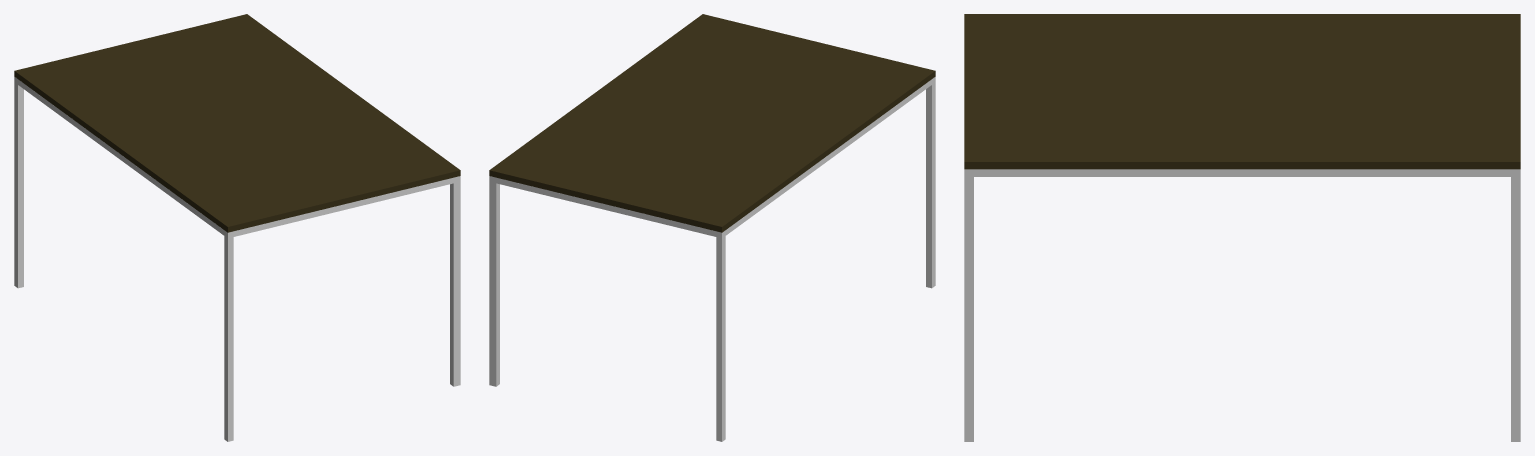
The model's file is table_1.dae.
The picture shows the model from 3 angles, left to right: view 1: azimuth 30°, elevation 25°; view 2: azimuth 150°, elevation 25°; view 3: azimuth 270°, elevation 25°; orthographic projection. The views are drawn at different scales.
Visible parts, largest first — view 1: IKEA_table_TORSBY; view 2: IKEA_table_TORSBY; view 3: IKEA_table_TORSBY.
Boxes of the visible parts, left/top/right/bottom form: IKEA_table_TORSBY: left=14, top=14, right=460, bottom=441; IKEA_table_TORSBY: left=489, top=14, right=935, bottom=441; IKEA_table_TORSBY: left=964, top=14, right=1520, bottom=441.
Size of the model in its own units: 0.85 by 1.35 by 0.75.
